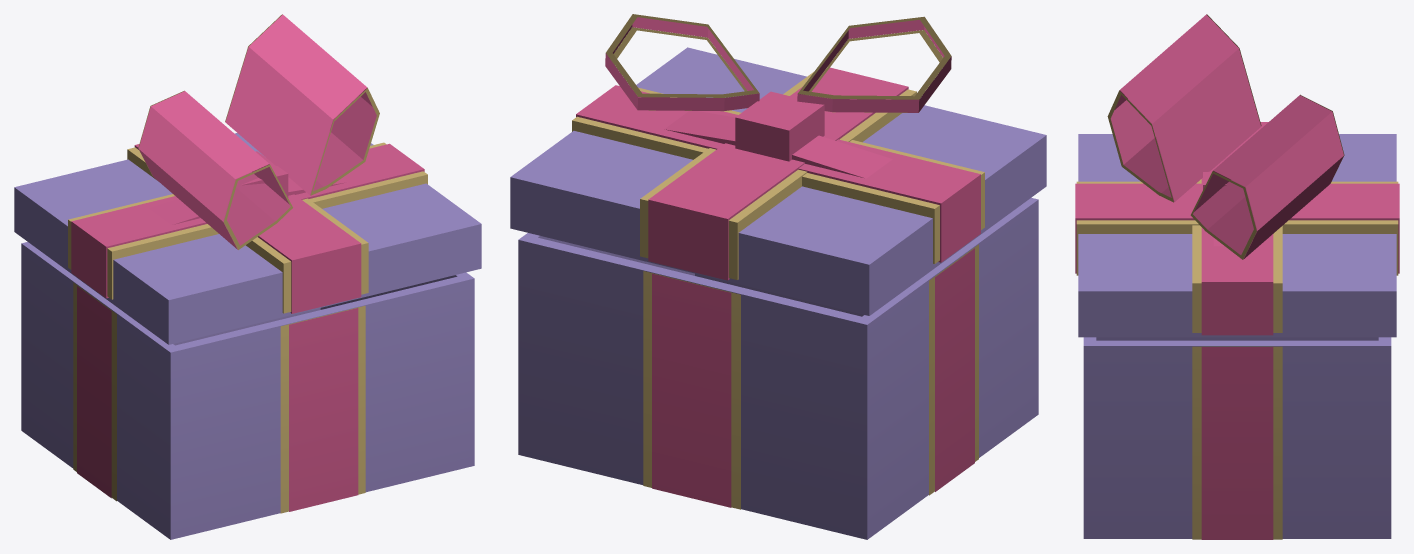
Rendered from gift.glb.
The picture shows the model from 3 angles, left to right: view 1: azimuth 30°, elevation 25°; view 2: azimuth 150°, elevation 25°; view 3: azimuth 270°, elevation 25°; orthographic projection. The views are drawn at different scales.
Visible parts, largest first — view 1: root_mesh, lid_mesh; view 2: root_mesh, lid_mesh; view 3: lid_mesh, root_mesh.
Boxes of the visible parts, box(x1,y1,x2,y2) form: root_mesh: box(21, 242, 474, 539); lid_mesh: box(14, 14, 481, 344); root_mesh: box(518, 197, 1038, 539); lid_mesh: box(510, 14, 1046, 315); lid_mesh: box(1075, 14, 1399, 337); root_mesh: box(1083, 337, 1391, 539).
Bounding box in the file's own units: 0.7 × 0.8 × 0.6.
